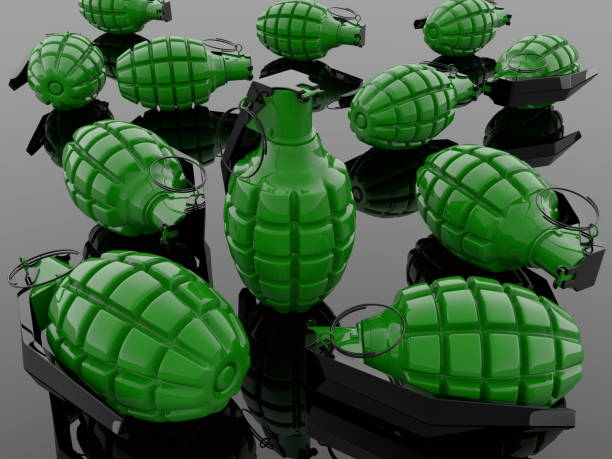e1: (10, 242, 252, 429), (305, 278, 590, 434), (218, 80, 358, 309), (417, 146, 604, 285), (63, 118, 212, 251), (114, 31, 252, 106), (252, 1, 366, 56)
